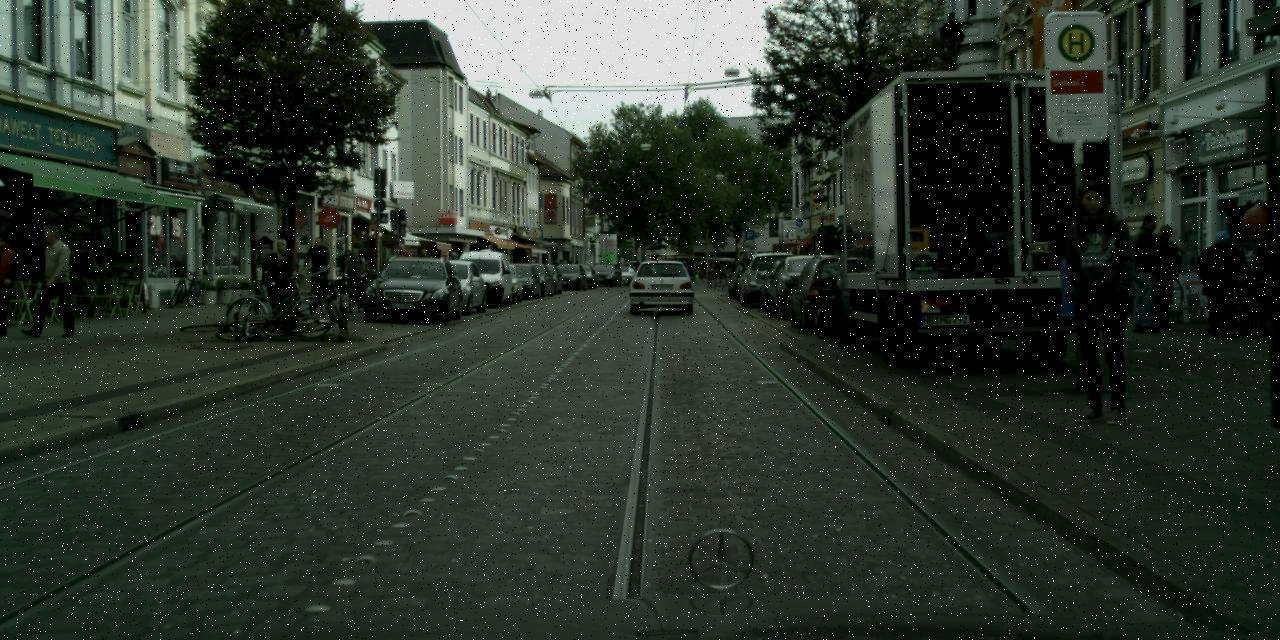ped: (1047, 179, 1147, 422), (1122, 213, 1170, 332), (28, 225, 73, 338), (1143, 225, 1185, 328), (1202, 230, 1242, 332), (0, 232, 21, 336), (268, 238, 296, 310), (306, 237, 331, 297), (262, 249, 284, 303), (344, 248, 366, 302), (415, 248, 436, 300), (444, 251, 464, 300), (391, 243, 411, 291)
